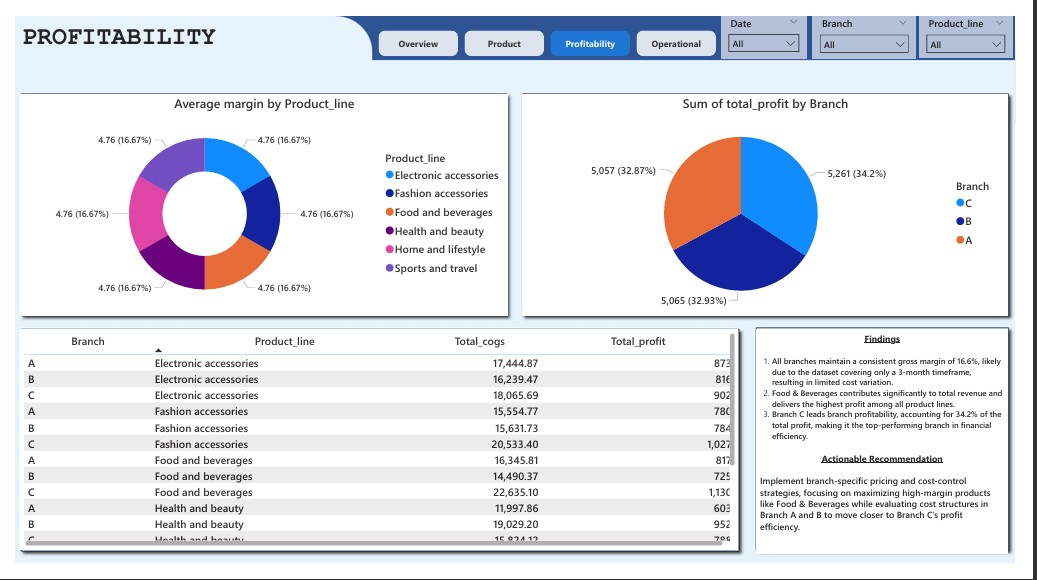

Layout of this report page (visuals, bound fields, positions):
{"tool":"powerbi","page":{"name":"Profitability","canvas":[1500,820],"ordinal":2},"visuals":[{"type":"pieChart","fields":{"Category":["Profitability.branch"],"Y":["Sum(Profitability.total_profit)"]},"box":[760.2,118.2,728.4,331.8],"z":0},{"type":"donutChart","fields":{"Category":["Profitability.product_line"],"Y":["Avg(Profitability.avg_margin)"]},"box":[6.8,118.2,730.7,331.8],"z":1000},{"type":"tableEx","fields":{"Values":["Profitability.branch","Profitability.product_line","Sum(Profitability.total_cogs)","Sum(Profitability.total_profit)"]},"box":[7.4,469.7,1077,330.3],"z":2000},{"type":"textbox","box":[4.1,6.1,524.5,75.5],"z":3000},{"type":"pageNavigator","box":[544.3,20,510,42],"z":3001},{"type":"slicer","fields":{"Values":["Supermarket.branch"]},"box":[1194.7,1.3,156.6,63.2],"z":3002},{"type":"slicer","fields":{"Values":["Supermarket.product_line"]},"box":[1355.3,1.3,140.8,61.8],"z":3003},{"type":"slicer","fields":{"Values":["Supermarket.date"]},"box":[1058,0,129,63],"z":3004},{"type":"textbox","box":[1111.3,470.4,376.5,335.7],"z":3005}]}

Visuals, with their boxes in screenshot pixels (x1, y1, x2, y2), scaled from the page's 1500x820 canvas onto the 1037x580 screenshot:
pieChart - Profitability.branch x Sum(Profitability.total_profit): (526, 84, 1029, 318)
donutChart - Profitability.product_line x Avg(Profitability.avg_margin): (5, 84, 510, 318)
tableEx - Profitability.branch x Profitability.product_line: (5, 332, 750, 566)
textbox: (3, 4, 365, 58)
pageNavigator: (376, 14, 729, 44)
slicer - Supermarket.branch: (826, 1, 934, 46)
slicer - Supermarket.product_line: (937, 1, 1034, 45)
slicer - Supermarket.date: (731, 0, 821, 45)
textbox: (768, 333, 1029, 570)
